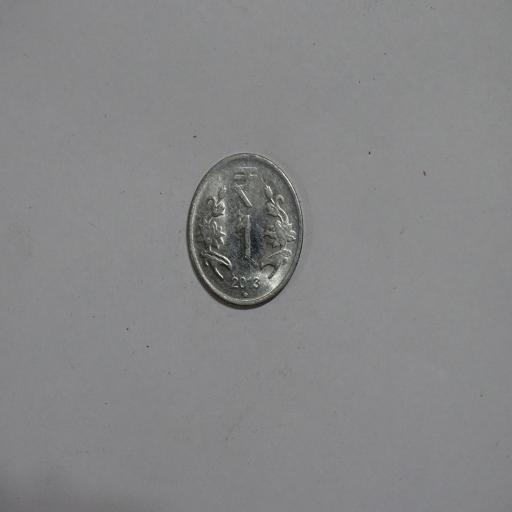rupee1: (184, 150, 311, 316)
